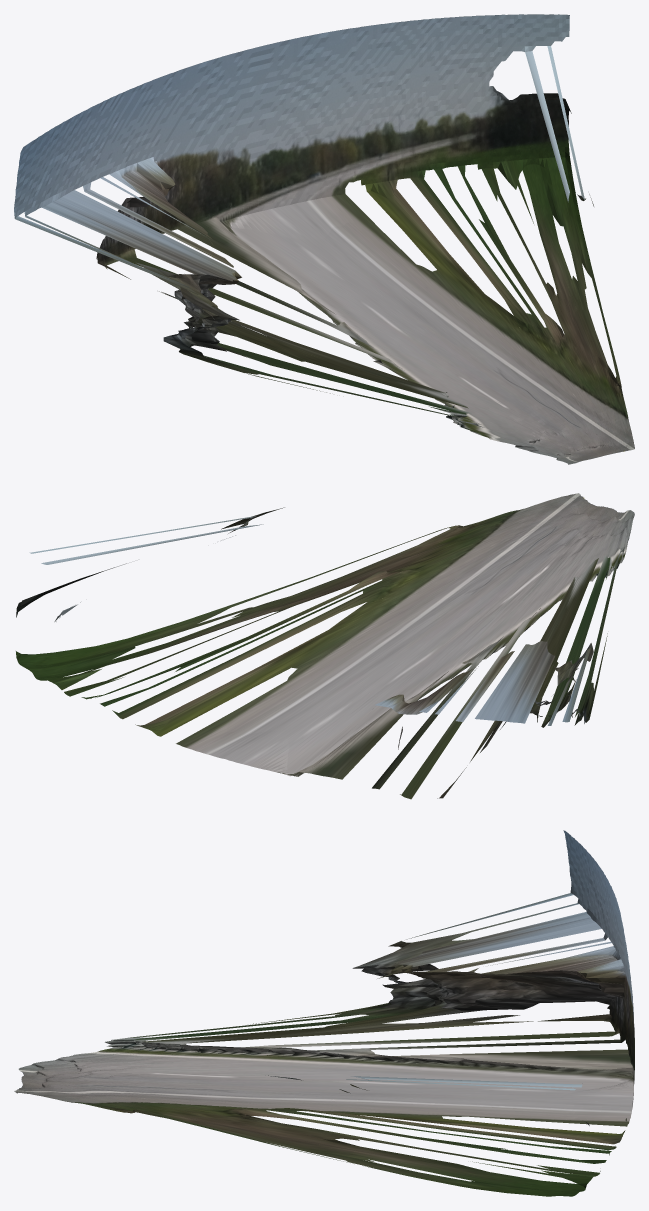
The picture shows the model from 3 angles, top to bottom: view 1: azimuth 30°, elevation 25°; view 2: azimuth 150°, elevation 25°; view 3: azimuth 270°, elevation 25°; orthographic projection. The views are drawn at different scales.
Parts seen in each view (by area): view 1: defaultobject; view 2: defaultobject; view 3: defaultobject.
Boxes of the visible parts, left/top/right/bottom form: defaultobject: left=14, top=14, right=634, bottom=464; defaultobject: left=16, top=493, right=634, bottom=799; defaultobject: left=14, top=830, right=634, bottom=1196.
Size of the model in its own units: 41.09 by 12.44 by 44.9.
Materials: 1 (1 with a texture image).
